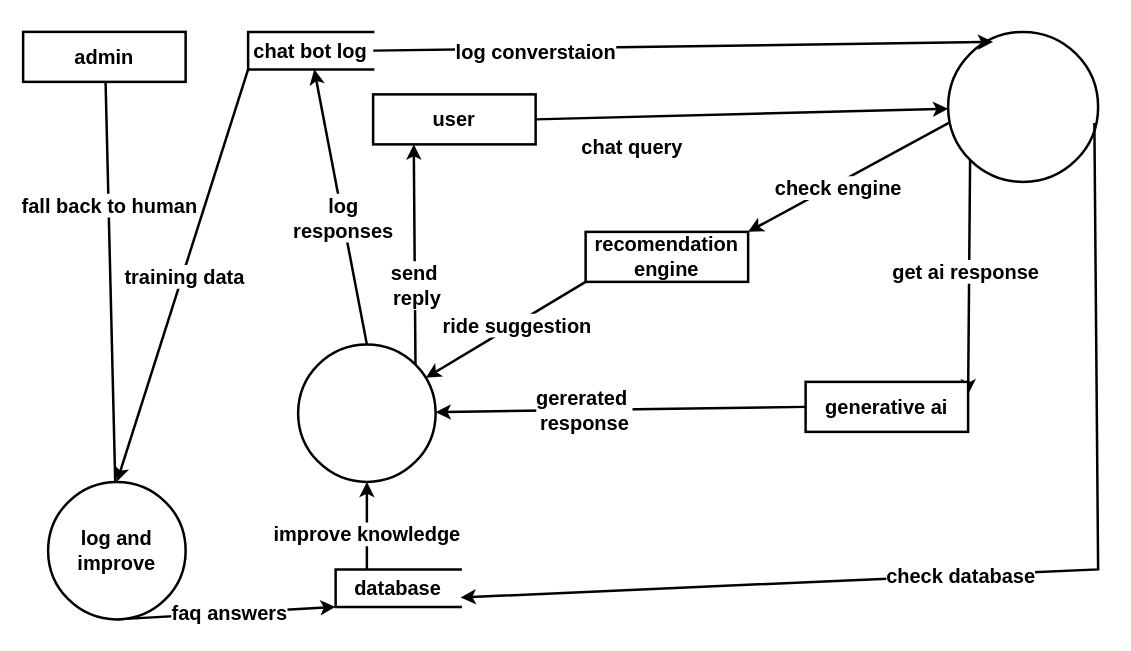
The diagram is 1131 pixels wide and 651 high, and some of its shapes have lost their labels. The shapes that lost their labels are listed below. From the top down, each one's box as (x1, y1, x2, y2) in pixels, then its label:
(946, 30, 1099, 182): process query
(296, 342, 436, 482): generative purpose
